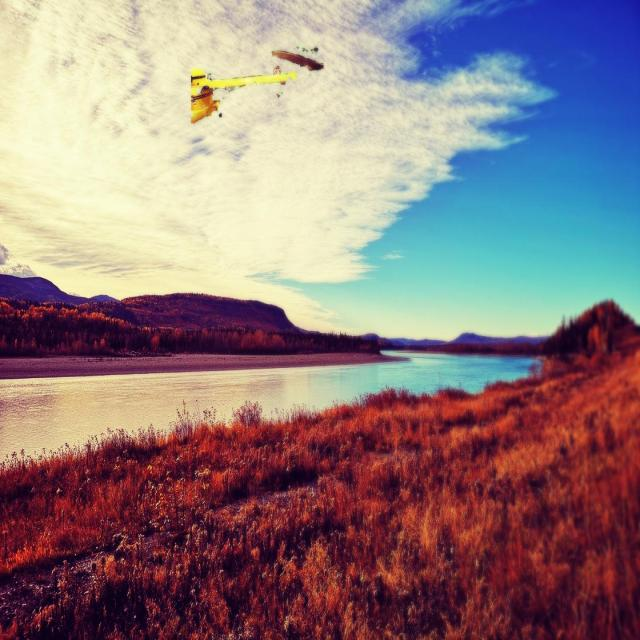airplane: (192, 41, 324, 124)
